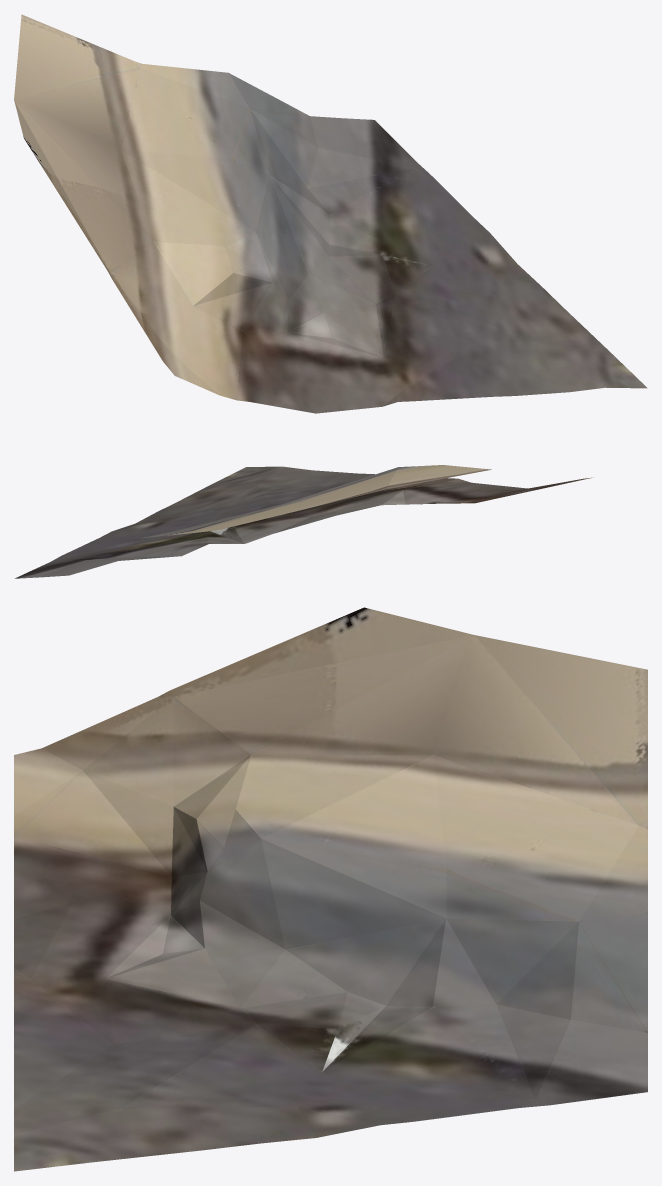
3 views of the same model, one above another, from view 1: azimuth 30°, elevation 25°; view 2: azimuth 150°, elevation 25°; view 3: azimuth 270°, elevation 25° (orthographic). The views are drawn at different scales.
Size of the model in its own units: 1.67 by 0.8799 by 1.67.
3 materials, 3 textured.
